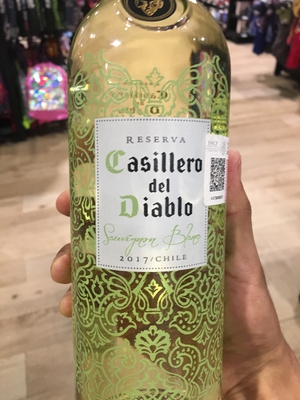casillero del diablo sauvignon blanc: (63, 9, 237, 400)
